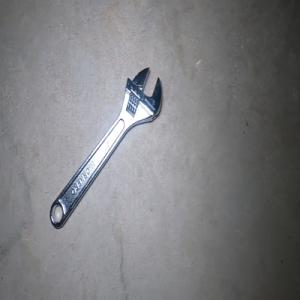Wrench: (49, 67, 162, 228)
